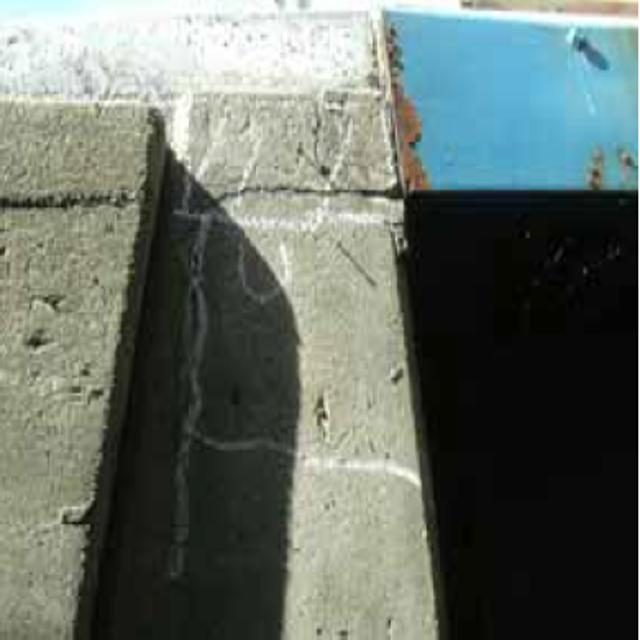crack: (187, 179, 416, 234)
